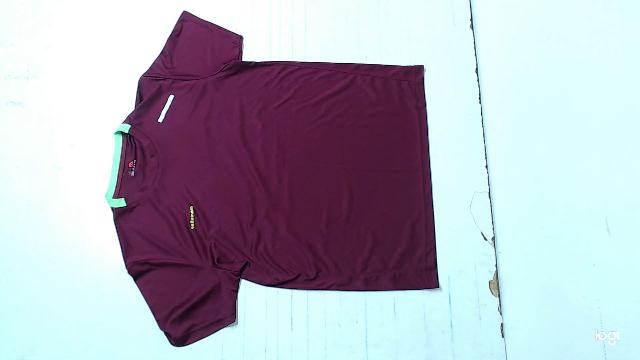new-garment: (106, 12, 438, 346)
